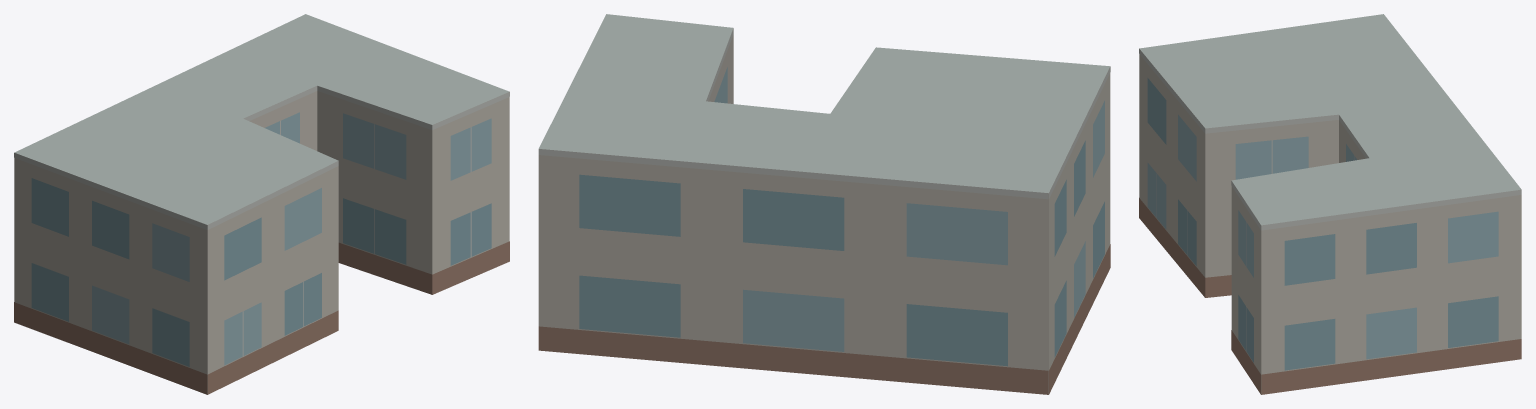
Rendered from survey-upis-32766669.glb.
The picture shows the model from 3 angles, left to right: view 1: azimuth 30°, elevation 25°; view 2: azimuth 150°, elevation 25°; view 3: azimuth 270°, elevation 25°; orthographic projection. The views are drawn at different scales.
Parts seen in each view (by area): view 1: survey-upis-32766669.tmp; view 2: survey-upis-32766669.tmp; view 3: survey-upis-32766669.tmp.
Boxes of the visible parts, left/top/right/bottom form: survey-upis-32766669.tmp: left=14, top=14, right=509, bottom=394; survey-upis-32766669.tmp: left=538, top=14, right=1110, bottom=394; survey-upis-32766669.tmp: left=1139, top=14, right=1521, bottom=394.
Bounding box in the file's own units: 21.4 × 8 × 16.37.
